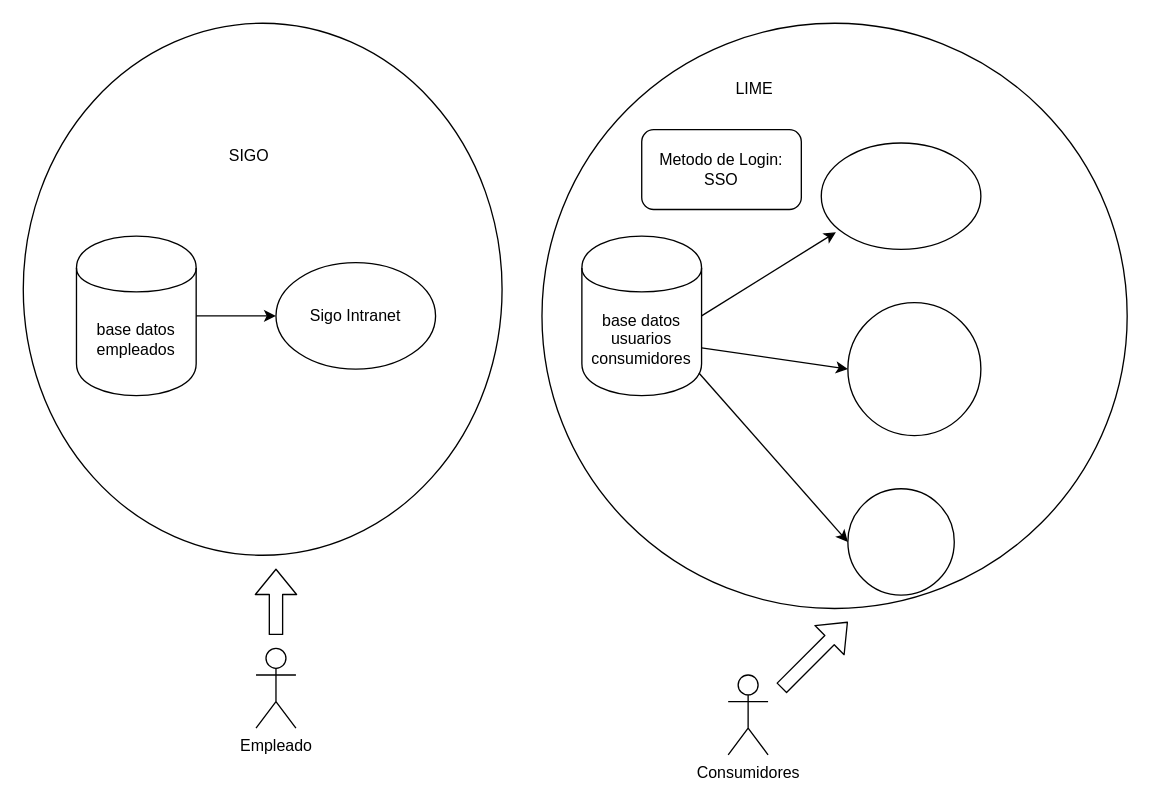
This 1150x806 diagram has some shape labels left out. The shapes that lost their labels are listed below. From the top down, each one's box as (x1, y1, x2, y2) in pixels, then its label:
(820, 142, 981, 249): suite
(847, 301, 981, 436): medicina
(847, 487, 954, 595): bla bla bla
